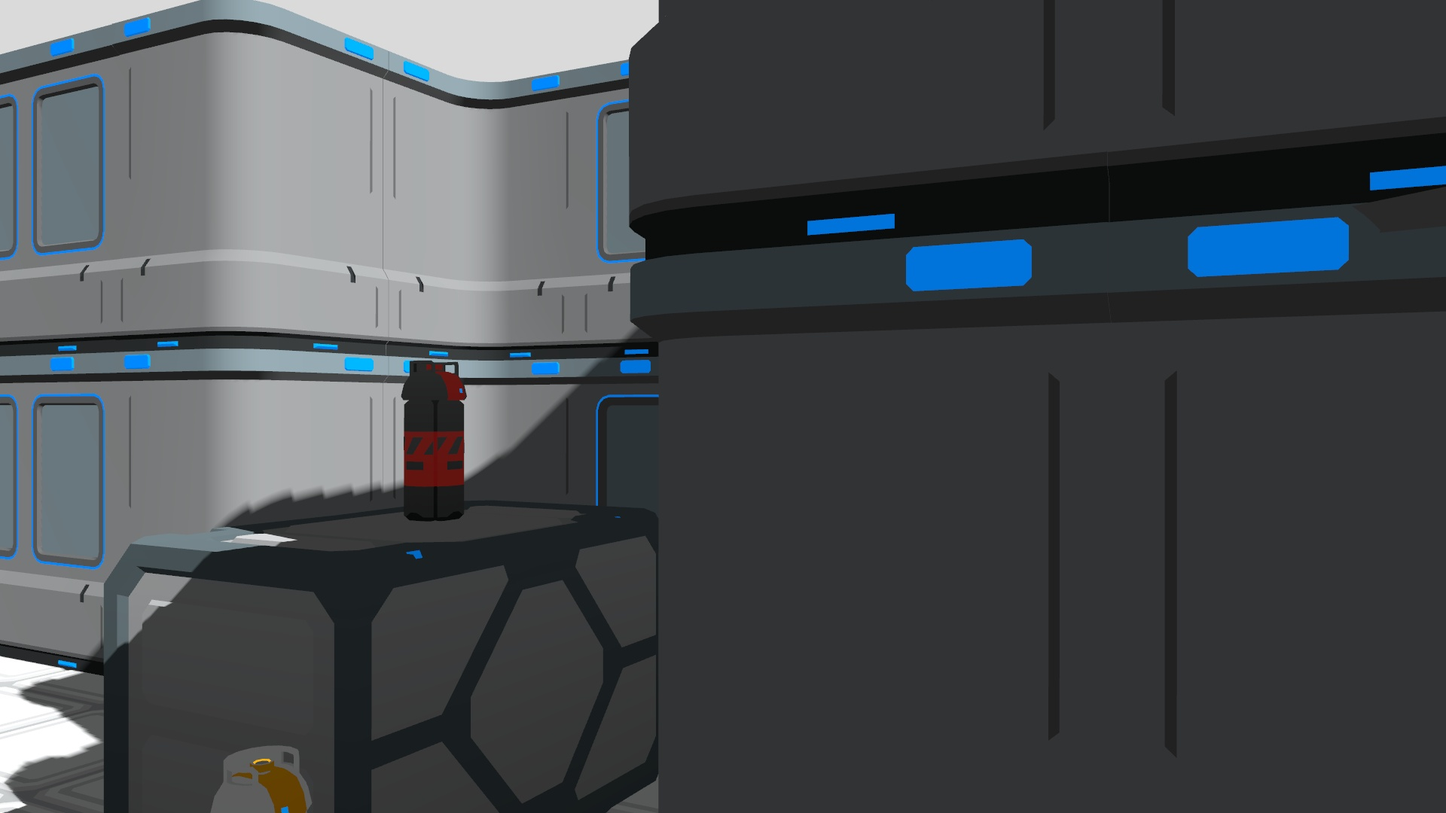red_barrel: (400, 356, 473, 529)
yellow_barrel: (213, 744, 321, 813)
